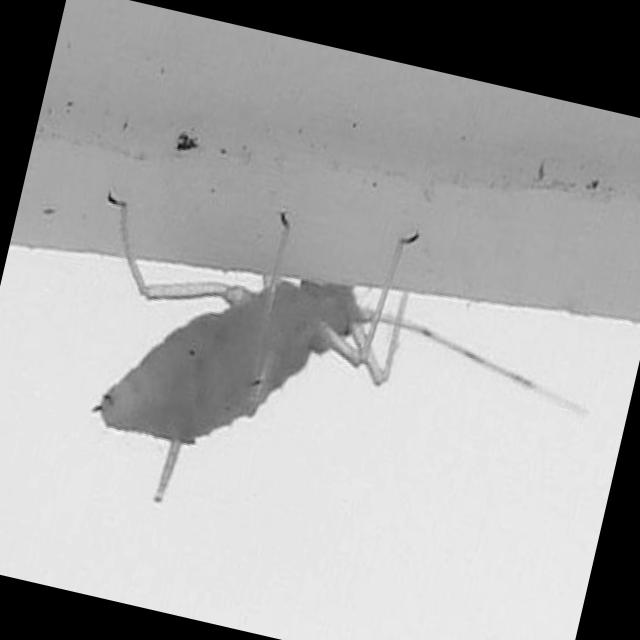Aphid: (43, 113, 589, 598)
